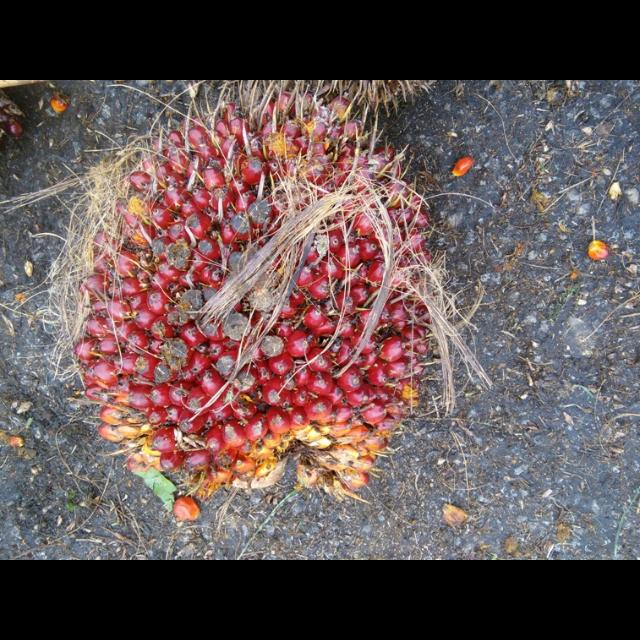Ripe: (60, 94, 462, 498)
